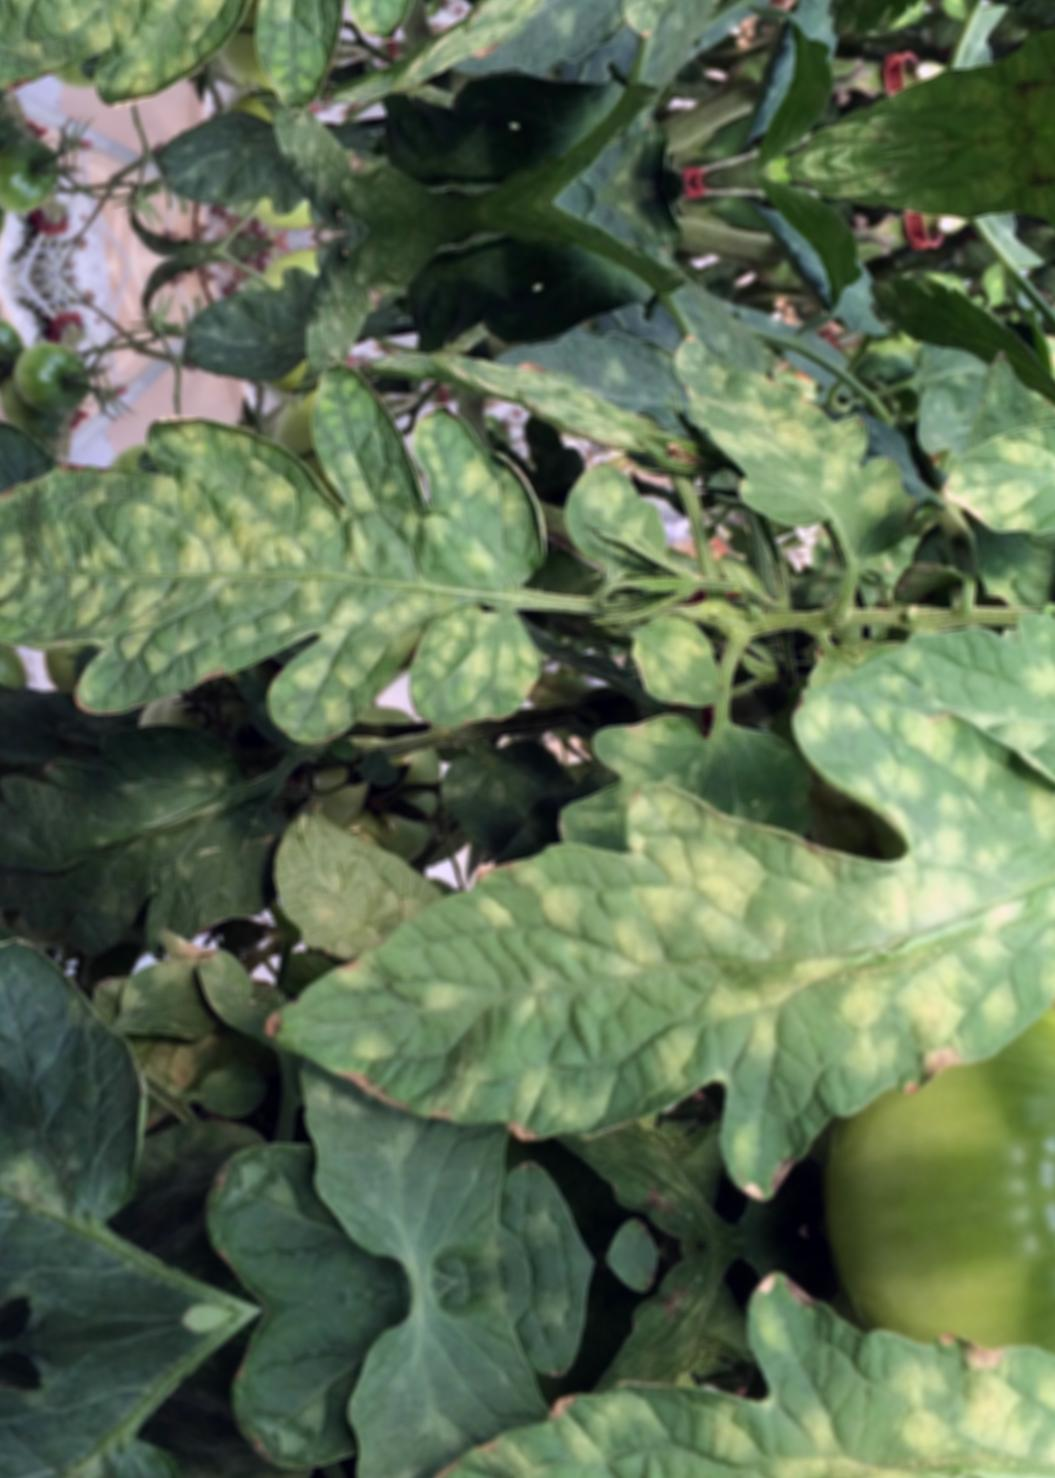Tomato mold leaf: (241, 683, 1055, 1194), (0, 340, 572, 800), (659, 304, 925, 622), (259, 789, 488, 983), (904, 597, 1055, 821), (917, 407, 1055, 550), (613, 601, 726, 726), (556, 450, 671, 568)
